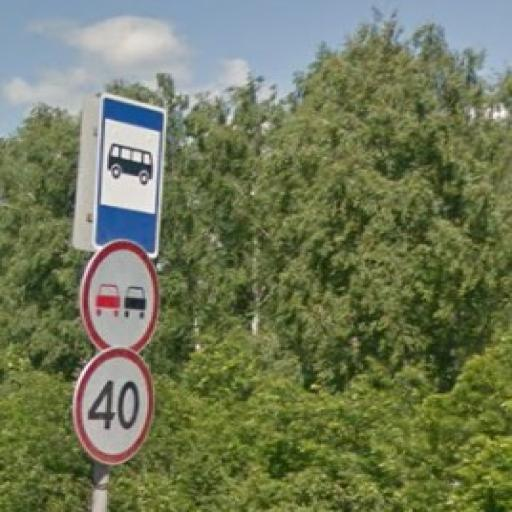traffic_sign: (93, 92, 169, 260), (74, 347, 156, 466)
